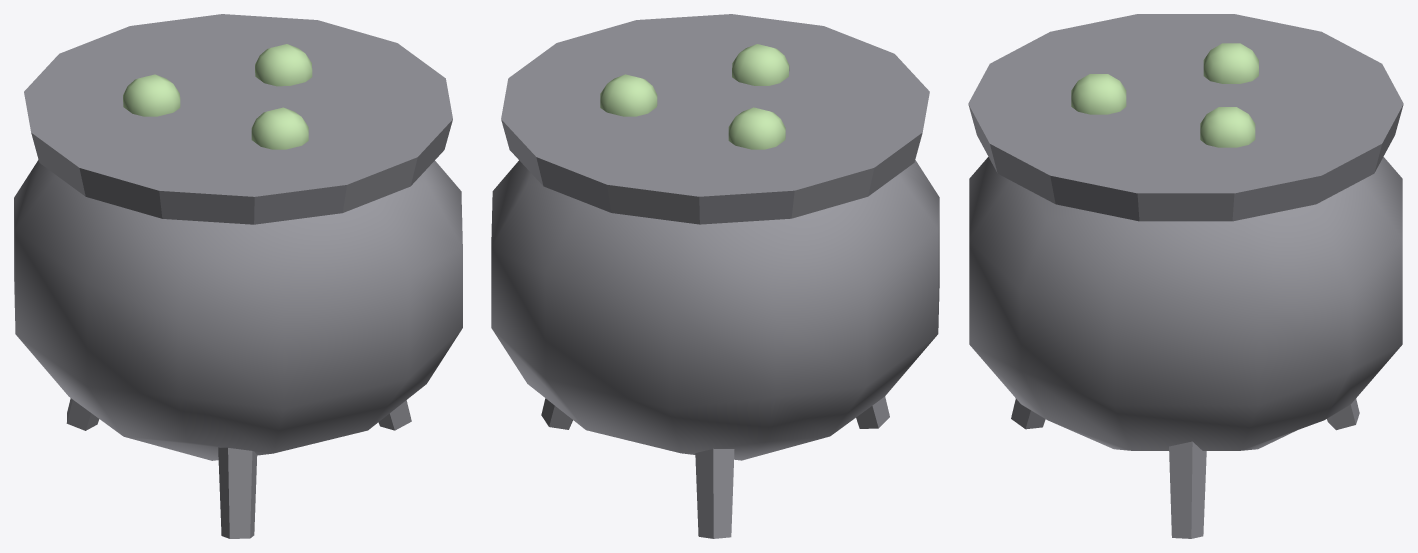
Rendered from prop_cauldron.glb.
The picture shows the model from 3 angles, left to right: view 1: azimuth 30°, elevation 25°; view 2: azimuth 150°, elevation 25°; view 3: azimuth 270°, elevation 25°; orthographic projection.
Visible parts, largest first — view 1: prop_cauldron; view 2: prop_cauldron; view 3: prop_cauldron.
Part boxes in pixels (x1,y1,x2,y2): prop_cauldron: (14, 14, 462, 538); prop_cauldron: (491, 14, 939, 538); prop_cauldron: (968, 14, 1403, 538).
Size of the model in its own units: 0.995 by 0.974 by 1.
